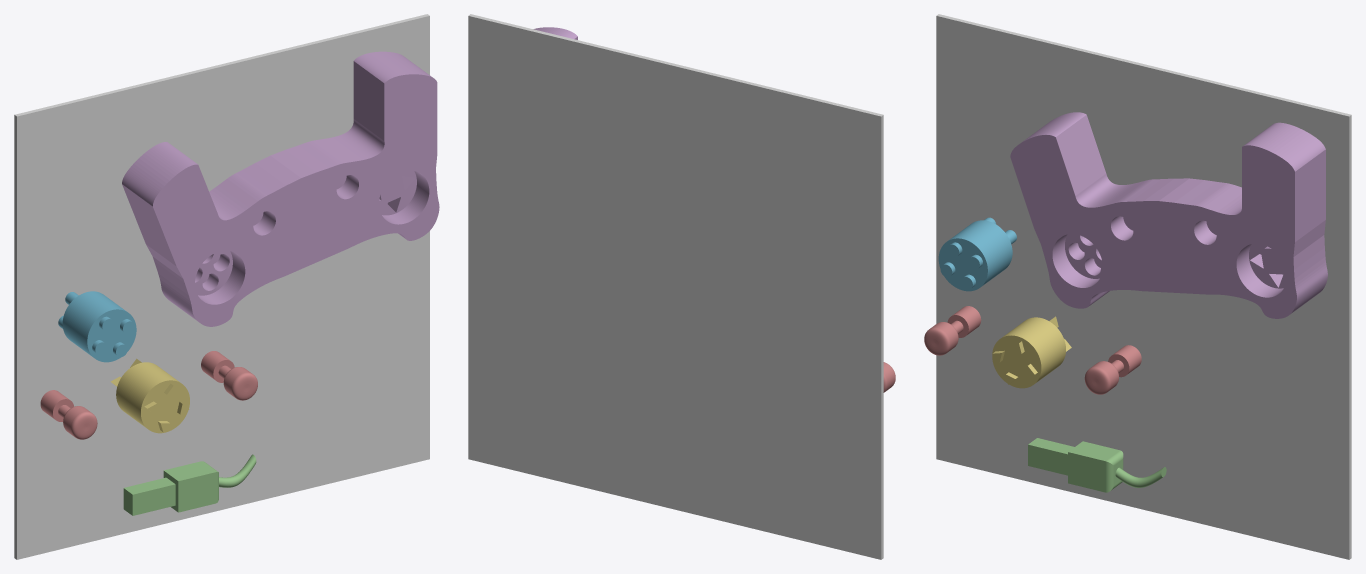
Rendered from pickup_layout.glb.
The picture shows the model from 3 angles, left to right: view 1: azimuth 30°, elevation 25°; view 2: azimuth 150°, elevation 25°; view 3: azimuth 330°, elevation 25°; orthographic projection.
Visible parts, largest first — view 1: world, 3.obj, 4.obj, 2.obj, 1.obj, 0.obj, 5.obj; view 2: world; view 3: world, 3.obj, 4.obj, 2.obj, 1.obj, 5.obj, 0.obj.
Part boxes in pixels (bbox=[...]): world: bbox=[14, 14, 429, 559]; 3.obj: bbox=[122, 51, 439, 326]; 4.obj: bbox=[123, 454, 256, 515]; 2.obj: bbox=[58, 291, 136, 362]; 1.obj: bbox=[110, 358, 189, 433]; 0.obj: bbox=[40, 390, 97, 439]; 5.obj: bbox=[201, 351, 257, 400]; world: bbox=[468, 14, 883, 559]; world: bbox=[936, 14, 1351, 559]; 3.obj: bbox=[1010, 112, 1327, 318]; 4.obj: bbox=[1028, 438, 1166, 492]; 2.obj: bbox=[938, 217, 1016, 291]; 1.obj: bbox=[992, 316, 1071, 388]; 5.obj: bbox=[1084, 345, 1141, 394]; 0.obj: bbox=[924, 306, 981, 355].
Size of the model in its own units: 19.3 by 19.79 by 3.2.
